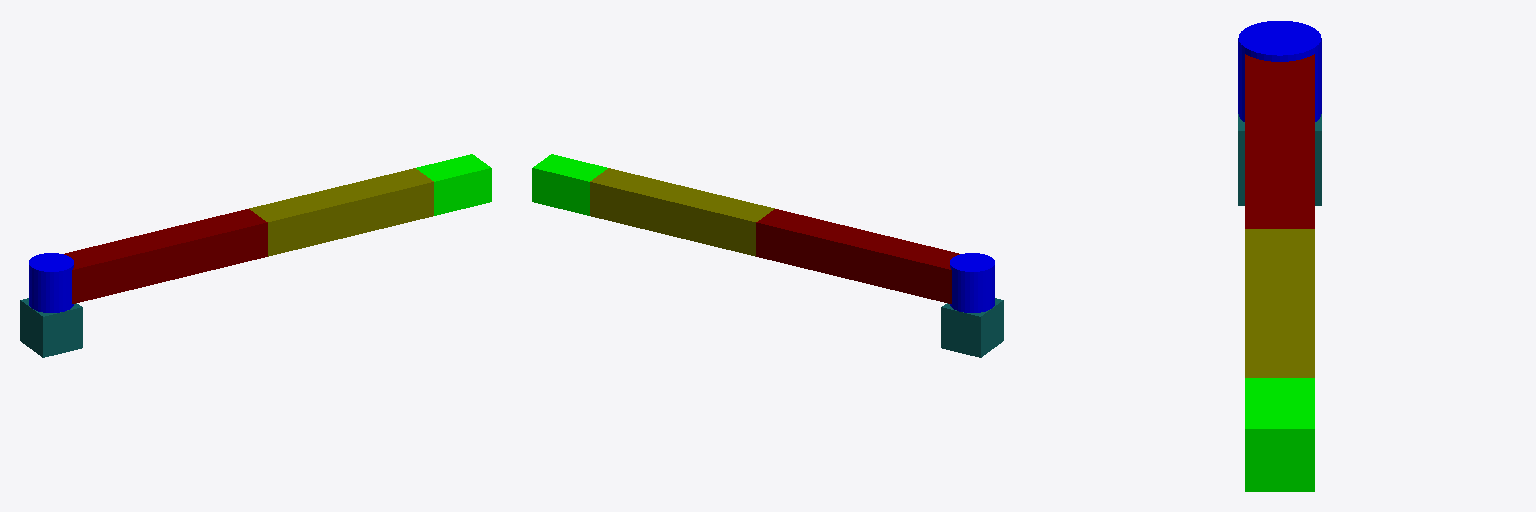
URDF robot description (Propuesta2):
<?xml version="1.0" encoding="utf-8"?>
<!--Aqui comienza el robot-->
<robot name="Propuesta2"   >

  <link name="world">
        </link>


    <!-- Base fija -->
    <link name="base_link">
        <visual>
            <origin xyz="0.0 0.0 0.03" rpy="0.0 0.0 0.0"/>
            <geometry>
                <box size="0.06 0.06 0.06"/>             
            </geometry>
            <material name="brown">
                <color rgba="0.1 0.43 0.43 1.0" />
            </material>      
        </visual>
        <collision>
            <origin xyz="0.0 0.0 0.03" rpy="0.0 0.0 0.0"/>
            <geometry>
                <box size="0.06 0.06 0.06"/>             
            </geometry>          
        </collision>
        <inertial>
            <mass value="0.5"/>
            <origin xyz="0.0 0.0 0.0" rpy="0.0 0.0 0.0"/>
            <inertia ixx="0.1" ixy="0.0" ixz="0.0" iyy="0.1" iyz="0.0" izz="0.1"/> 
        </inertial>
    </link>

    <!-- Base giratoria -->
    <link name="rotating_base">
        <visual>
            <origin xyz="0.0 0.0 0.06" rpy="0.0 0.0 0.0"/>
            <geometry>
                <cylinder length="0.06" radius="0.03"/>
            </geometry>
            <material name="blue">
                <color rgba="0.0 0.0 1.0 1.0" />
            </material>
        </visual>
        <collision>
            <origin xyz="0.0 0.0 0.06" rpy="0.0 0.0 0.0"/>
            <geometry>
                <cylinder length="0.06" radius="0.03"/>
            </geometry>
        </collision>
        <inertial>
            <mass value="0.3"/>
            <origin xyz="0.0 0.0 0.06" rpy="0.0 0.0 0.0"/>
            <inertia ixx="0.05" ixy="0.0" ixz="0.0" iyy="0.05" iyz="0.0" izz="0.05"/>
        </inertial>
    </link>


    <!-- Primer enlace -->
    <link name="link_1">
        <visual>
            <origin xyz="0.1575 0.0 0.0" rpy="0.0 0.0 0.0"/>
            <geometry>
                <box size="0.315 0.05 0.05"/>             
            </geometry>
            <material name="red">
                <color rgba="0.5 0.0 0.0 1.0" />
            </material>      
        </visual>
        <collision>
            <origin xyz="0.1575 0.0 0.0" rpy="0.0 0.0 0.0"/>
            <geometry>
                <box size="0.315 0.05 0.05"/>             
            </geometry>          
        </collision>
        <inertial>
            <mass value="0.3"/>
            <origin xyz="0.0 0.0 0.0" rpy="0.0 0.0 0.0"/>
            <inertia ixx="0.1" ixy="0.0" ixz="0.0" iyy="0.1" iyz="0.0" izz="0.1"/> 
        </inertial>
    </link>



    <!-- Segundo enlace -->
    <link name="link_2">
        <visual>
            <origin xyz="0.127 0.0 0.0" rpy="0.0 0.0 0.0"/>
            <geometry>
                <box size="0.254 0.05 0.05"/>             
            </geometry>
            <material name="yellow">
                <color rgba="0.5 0.5 0.0 1.0" />
            </material>      
        </visual>
        <collision>
            <origin xyz="0.127 0.0 0.0" rpy="0.0 0.0 0.0"/>
            <geometry>
                <box size="0.254 0.05 0.05"/>             
            </geometry>          
        </collision>
        <inertial>
            <mass value="0.2"/>
            <origin xyz="0.0 0.0 0.0" rpy="0.0 0.0 0.0"/>
            <inertia ixx="0.1" ixy="0.0" ixz="0.0" iyy="0.1" iyz="0.0" izz="0.1"/> 
        </inertial>
    </link>



    <!-- Tercer enlace -->
    <link name="link_3">
        <visual>
            <origin xyz="0.043725 0.0 0.0" rpy="0.0 0.0 0.0"/>
            <geometry>
                <box size="0.08745 0.05 0.05"/>             
            </geometry>
            <material name="green">
                <color rgba="0.0 1.0 0.0 1.0" />
            </material>      
        </visual>
        <collision>
            <origin xyz="0.043725 0.0 0.0" rpy="0.0 0.0 0.0"/>
            <geometry>
                <box size="0.08745 0.05 0.05"/>             
            </geometry>          
        </collision>
        <inertial>
            <mass value="0.2"/>
            <origin xyz="0.0 0.0 0.0" rpy="0.0 0.0 0.0"/>
            <inertia ixx="0.1" ixy="0.0" ixz="0.0" iyy="0.1" iyz="0.0" izz="0.1"/> 
        </inertial>
    </link>


    <link name="P">
    </link>





    <joint name="world_to_base" type="fixed">
      <parent link="world"/>
      <child link="base_link"/>
      <origin xyz="0 0 0" rpy="0 0 0"/>
    </joint>



    <joint name="base_link_to_link_1" type="revolute">
      <parent link="base_link"/>
      <child link="rotating_base"/>
      <axis xyz="0 0 1"/> <!-- Rotación sobre Z -->
      <limit lower="-3.14159" upper="3.14159" velocity="1.0" effort="100.0"/>
      <origin xyz="0.0 0.0 0.03" rpy="0 0 0"/>
    </joint>


    <joint name="link_1_to_link_2" type="revolute">
      <parent link="rotating_base"/>
      <child link="link_1"/>
      <axis xyz="0 1 0"/> <!-- Rotación en plano XY -->
      <limit lower="-1.57" upper="1.57" velocity="1.0" effort="100.0"/>
      <origin xyz="0.0 0.0 0.06" rpy="0.0 0.0 0.0"/>
    </joint>



    <joint name="link_2_to_link_3" type="revolute">
      <parent link="link_1"/>
      <child link="link_2"/>
      <axis xyz="0 1 0"/> <!-- Rotación en plano XY -->
      <limit lower="-1.57" upper="1.57" velocity="1.0" effort="100.0"/>
      <origin xyz="0.315 0.0 0.0" rpy="0.0 0.0 0.0"/>
    </joint>
  
    <joint name="link_3_to_link_4" type="revolute">
      <parent link="link_2"/>
      <child link="link_3"/>
      <axis xyz="0 1 0"/> <!-- Rotación en plano XY -->
      <limit lower="-1.57" upper="1.57" velocity="1.0" effort="100.0"/>
      <origin xyz="0.254 0.0 0.0" rpy="0.0 0.0 0.0"/>
    </joint>


  <joint name="link_P_joint" type="fixed">
    <origin xyz="0.096 0.0 0.0" rpy="0 0 0"/>
    <parent link="link_3"/>
    <child link="P"/>
  </joint>




</robot>

--- Facts derived from the render (not from the file) ---
3 views of the same robot in one strip: view 1: azimuth 30°, elevation 25°; view 2: azimuth 150°, elevation 25°; view 3: azimuth 270°, elevation 25° (orthographic).
Robot: Propuesta2 — 7 links, 6 joints (4 revolute, 2 fixed); root link world; default pose: all joints at 0.
Links seen in each view (by area): view 1: link_1, link_2, link_3, base_link, rotating_base; view 2: link_1, link_2, link_3, base_link, rotating_base; view 3: link_1, link_2, link_3, rotating_base, base_link.
Link boxes in pixels (x1,y1,x2,y2): link_1: (64, 209, 267, 303); link_2: (249, 168, 433, 256); link_3: (416, 154, 491, 215); base_link: (20, 298, 82, 357); rotating_base: (29, 253, 73, 312); link_1: (756, 209, 959, 303); link_2: (590, 168, 774, 256); link_3: (532, 154, 607, 215); base_link: (941, 298, 1003, 357); rotating_base: (950, 253, 994, 312); link_1: (1245, 54, 1314, 228); link_2: (1245, 229, 1314, 377); link_3: (1245, 378, 1314, 491); rotating_base: (1238, 21, 1321, 121); base_link: (1238, 114, 1321, 205).
Size in the robot's own frame: 0.6864 by 0.06 by 0.12 metres.
Geometry: primitives only (box / cylinder / sphere), no mesh files.
